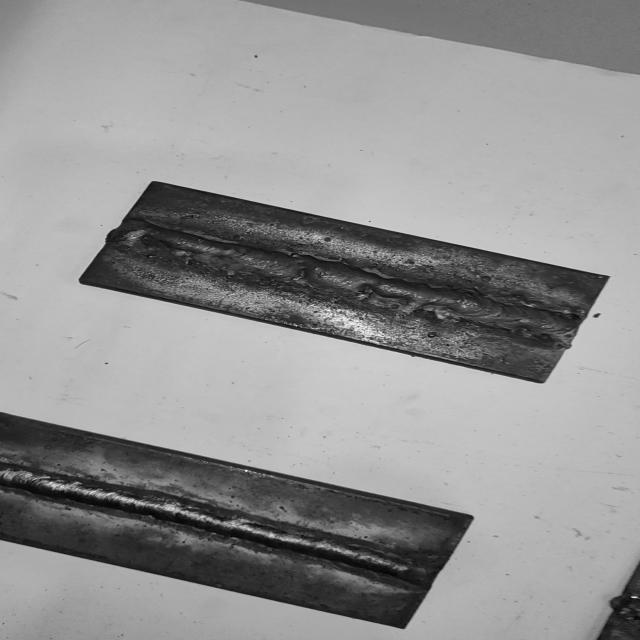Defect: (340, 269, 479, 323)
Welding Line: (114, 218, 586, 338), (0, 464, 439, 588)
Workpiece: (70, 175, 617, 391), (0, 408, 489, 634)
